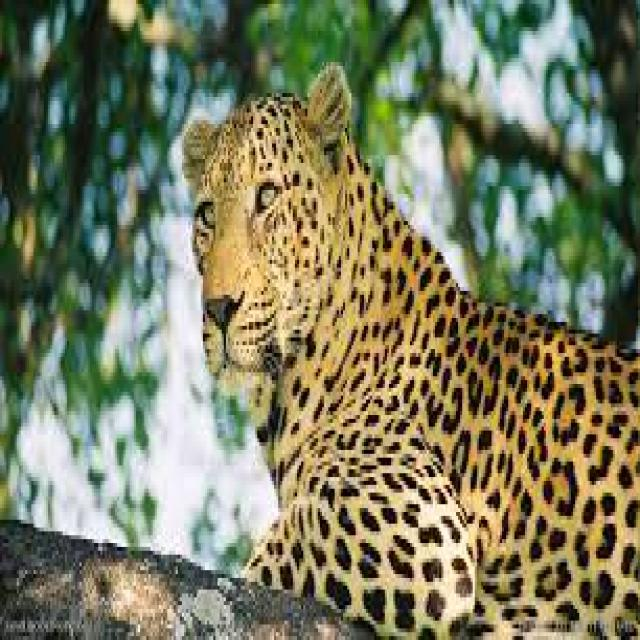leopard: (182, 62, 638, 636)
